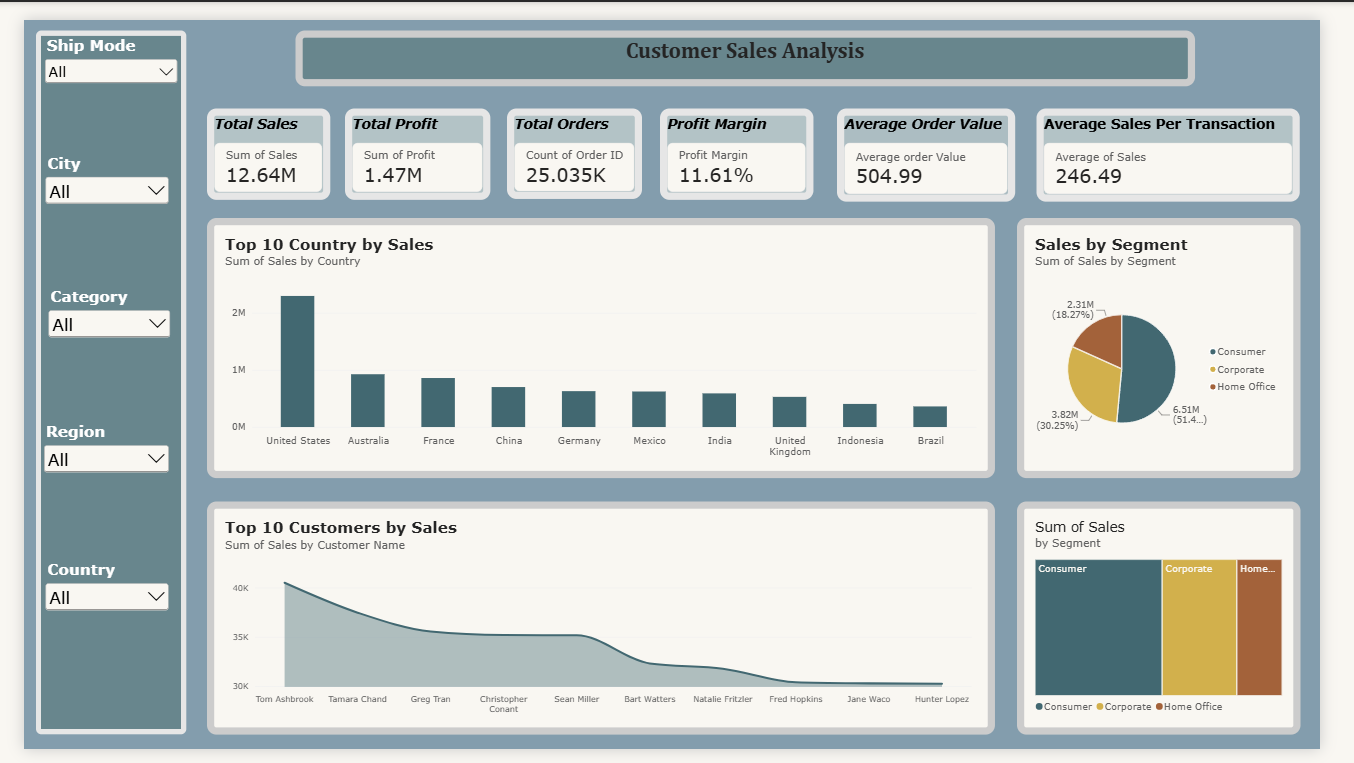

What the dashboard file says about the page in this screenshot:
{"tool":"powerbi","page":{"name":"Customer Analysis","canvas":[1920,1080],"ordinal":2},"visuals":[{"type":"areaChart","title":"Top 10 Customers by Sales","fields":{"Category":["Orders.Customer Name"],"Y":["Sum(Orders.Sales)"]},"box":[270,712.5,1167.5,345],"z":0},{"type":"pieChart","title":"Sales by Segment","fields":{"Category":["Orders.Segment"],"Y":["Sum(Orders.Sales)"]},"box":[1470,292.5,420,385],"z":1000},{"type":"columnChart","title":"Top 10 Country by Sales","fields":{"Category":["Orders.Country"],"Y":["Sum(Orders.Sales)"]},"box":[270,292.5,1167.5,385],"z":2000},{"type":"treemap","fields":{"Group":["Orders.Segment"],"Values":["Sum(Orders.Sales)"]},"box":[1470,712.5,420,345],"z":3000},{"type":"cardVisual","title":"Total Sales","fields":{"Data":["Sum(Orders.Sales)"]},"box":[270,130,182.5,135],"z":4000},{"type":"cardVisual","title":"Total Profit","fields":{"Data":["Sum(Orders.Profit)"]},"box":[475,130,215,135],"z":5000},{"type":"cardVisual","title":"Total Orders","fields":{"Data":["Count(Orders.Order ID)"]},"box":[715,130,200,134],"z":6000},{"type":"cardVisual","title":"Profit Margin","fields":{"Data":["Orders.Profit Margin"]},"box":[942.5,130,227.5,135],"z":7000},{"type":"cardVisual","title":"Average Order Value","fields":{"Data":["Orders.Average order Value"]},"box":[1205,130,264,138],"z":8000},{"type":"cardVisual","title":"Average Sales Per Transaction","fields":{"Data":["Avg(Orders.Sales)"]},"box":[1500,130,390,138],"z":9000},{"type":"slicer","fields":{"Values":["Orders.Ship Mode"]},"box":[17.5,15,222.5,1042.5],"z":10000},{"type":"slicer","fields":{"Values":["Orders.City"]},"box":[27.5,197.5,192.5,95],"z":11000},{"type":"slicer","fields":{"Values":["Orders.Category"]},"box":[30,395,190,100],"z":12000},{"type":"slicer","fields":{"Values":["Orders.Region"]},"box":[25,595,195,117.5],"z":13000},{"type":"slicer","fields":{"Values":["Orders.Country"]},"box":[27.5,800,192.5,137.5],"z":14000},{"type":"textbox","box":[402.5,15,1332.5,82.5],"z":15000}]}

Visuals, with their boxes in screenshot pixels (x1, y1, x2, y2), scaled from the page's 1920x1080 canvas onto the 1354x763 screenshot:
"Top 10 Customers by Sales" areaChart: region(190, 503, 1014, 747)
"Sales by Segment" pieChart: region(1037, 207, 1333, 479)
"Top 10 Country by Sales" columnChart: region(190, 207, 1014, 479)
treemap - Orders.Segment x Sum(Orders.Sales): region(1037, 503, 1333, 747)
"Total Sales" cardVisual: region(190, 92, 319, 187)
"Total Profit" cardVisual: region(335, 92, 487, 187)
"Total Orders" cardVisual: region(504, 92, 645, 187)
"Profit Margin" cardVisual: region(665, 92, 825, 187)
"Average Order Value" cardVisual: region(850, 92, 1036, 189)
"Average Sales Per Transaction" cardVisual: region(1058, 92, 1333, 189)
slicer - Orders.Ship Mode: region(12, 11, 169, 747)
slicer - Orders.City: region(19, 140, 155, 207)
slicer - Orders.Category: region(21, 279, 155, 350)
slicer - Orders.Region: region(18, 420, 155, 503)
slicer - Orders.Country: region(19, 565, 155, 662)
textbox: region(284, 11, 1224, 69)
